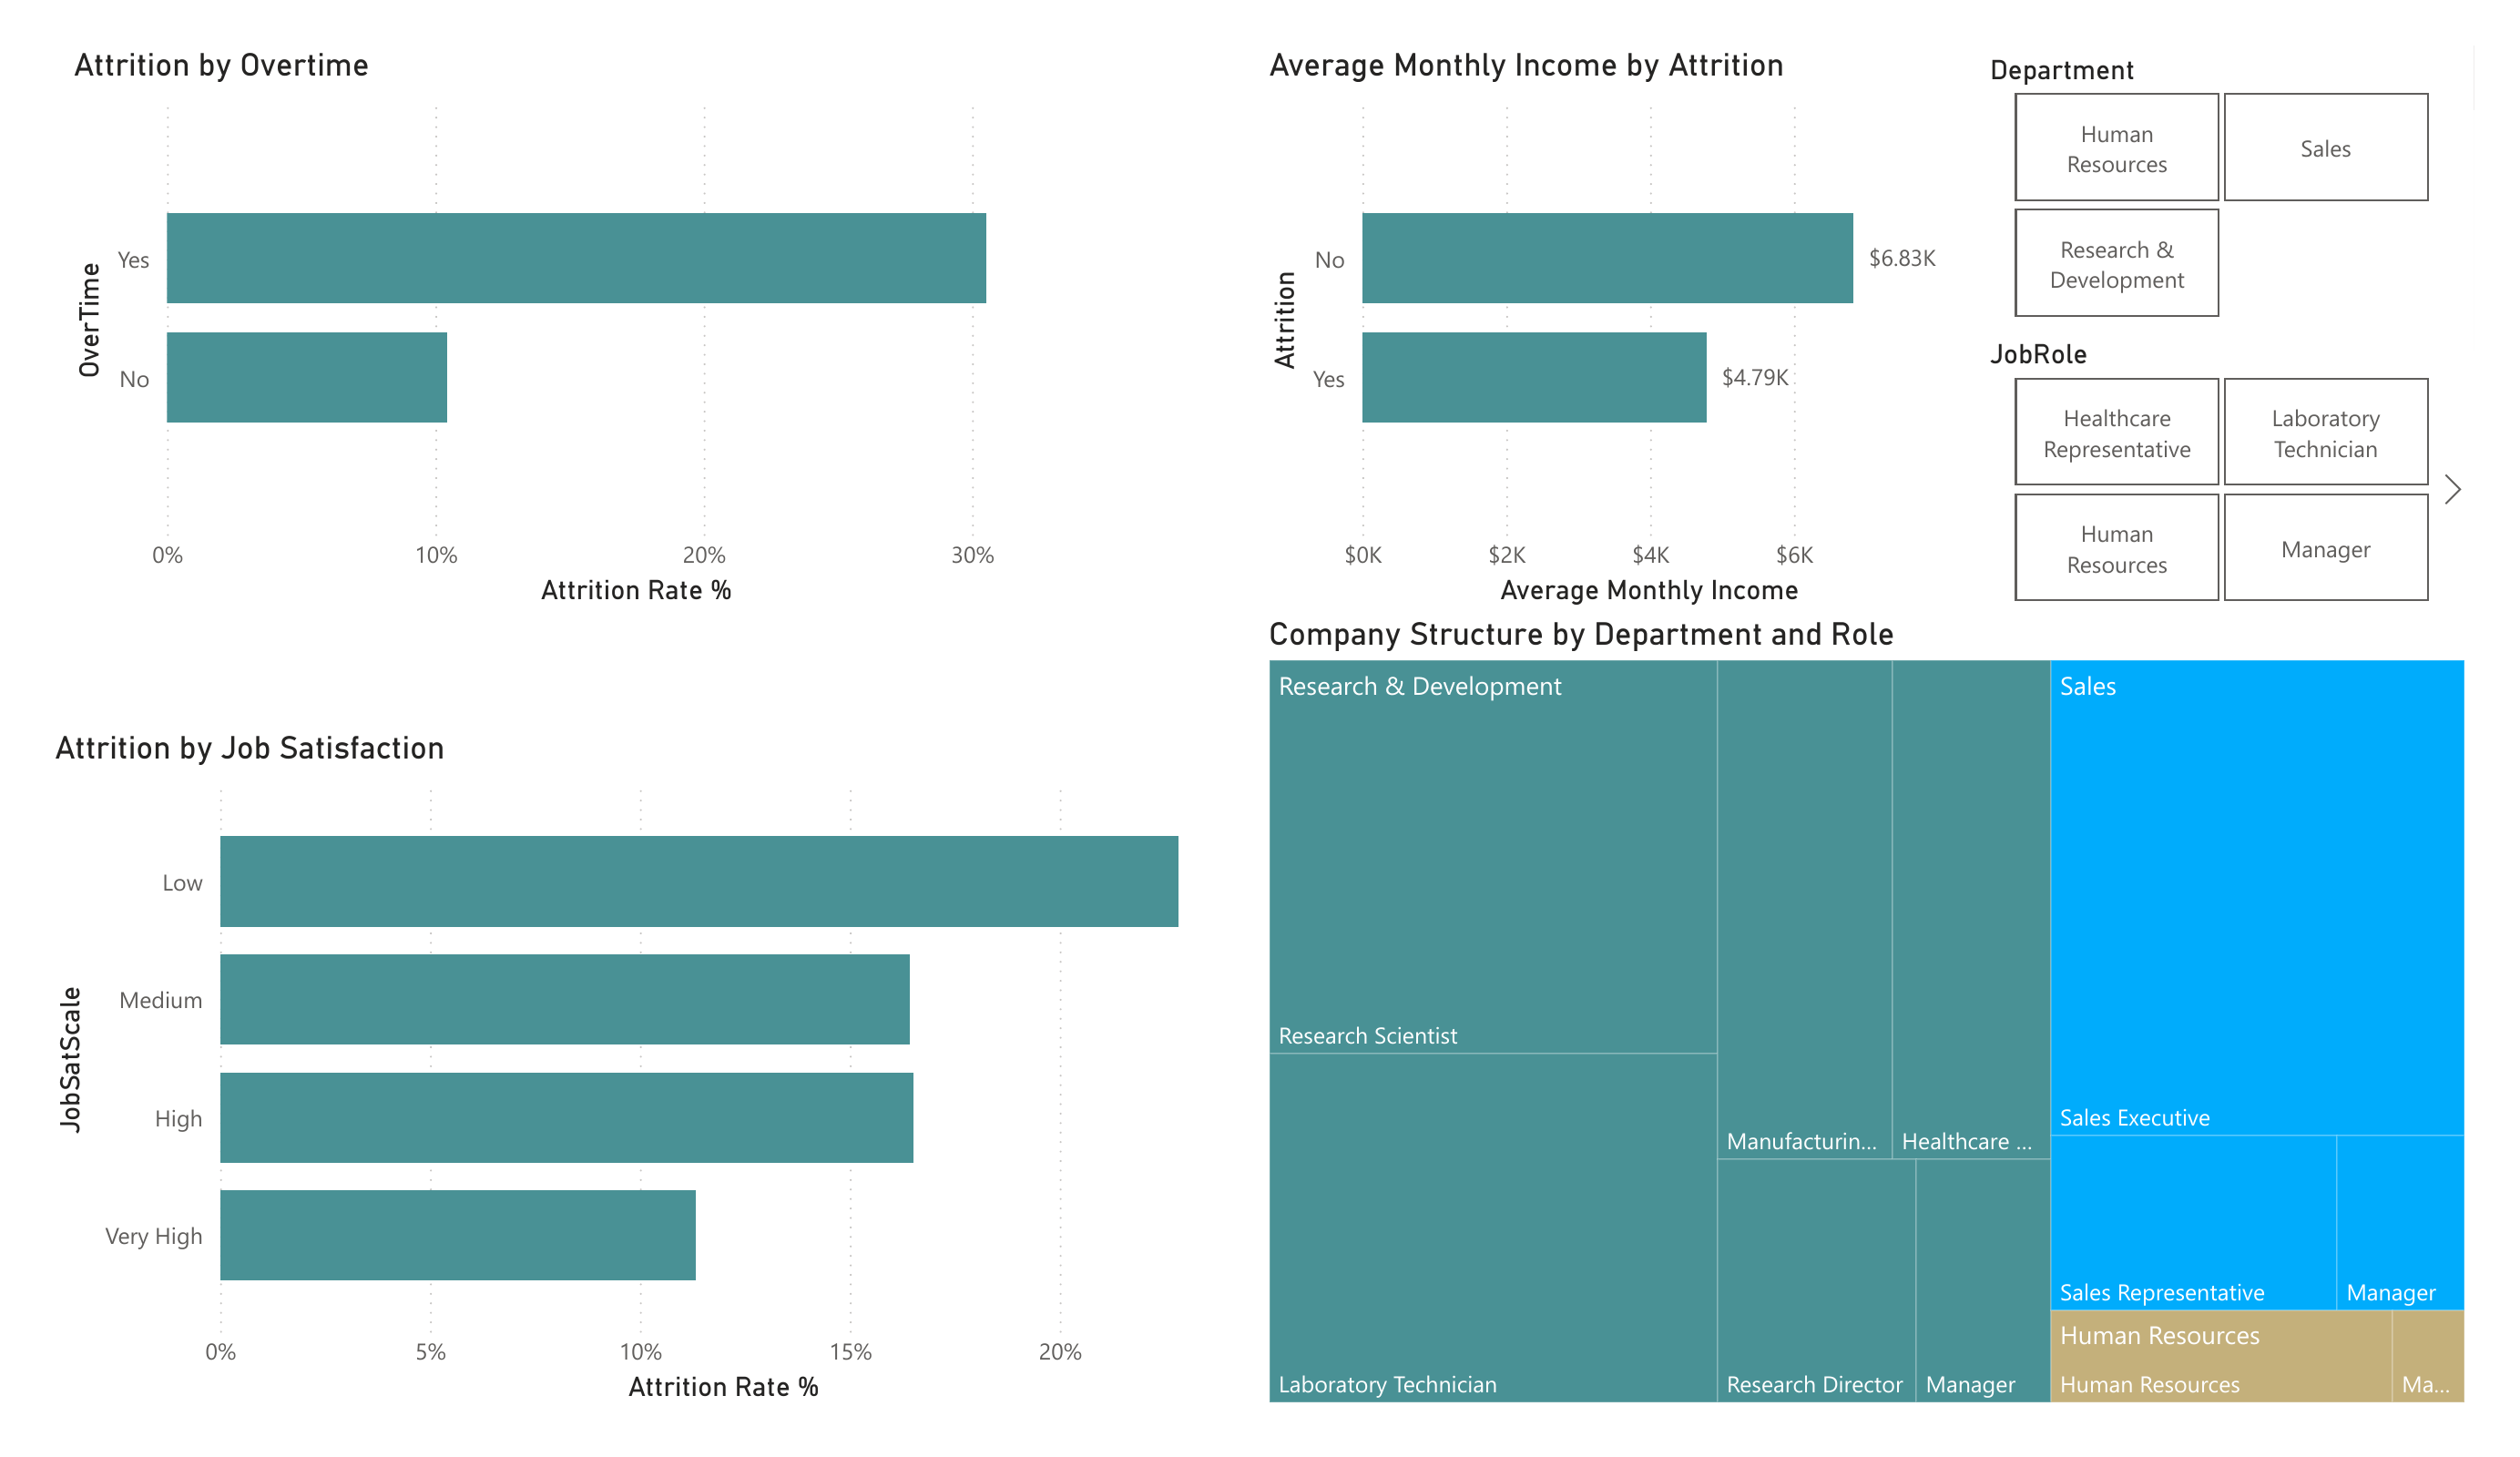

The page's visual inventory and layout, read from the dashboard file:
{"tool":"powerbi","page":{"name":"Deep Dive","canvas":[1280,720],"ordinal":1},"visuals":[{"type":"clusteredBarChart","title":"Attrition by Overtime","fields":{"Category":["Employees.OverTime"],"Y":["AllMeasures.Attrition Rate %"]},"box":[9.7,0,566.1,299.6],"z":0},{"type":"clusteredBarChart","title":"Attrition by Job Satisfaction","fields":{"Y":["AllMeasures.Attrition Rate %"],"Category":["Employees.JobSatScale"]},"box":[0,359.9,640,359.9],"z":1},{"type":"clusteredBarChart","fields":{"Category":["Employees.Attrition"],"Y":["AllMeasures.Average Monthly Income"]},"box":[640,0,371.6,299.6],"z":2},{"type":"treemap","title":"Company Structure by Department and Role","fields":{"Group":["Employees.Department"],"Values":["AllMeasures.Total Headcount"],"Details":["Employees.JobRole"]},"box":[640,299.6,640,420.2],"z":3},{"type":"slicer","fields":{"Values":["Employees.Department"]},"box":[1011.6,0,268.4,149.8],"z":4},{"type":"slicer","fields":{"Values":["Employees.JobRole"]},"box":[1011.6,149.8,268.4,149.8],"z":5}]}

Visuals, with their boxes on the page's 1280x720 design canvas (x1, y1, x2, y2). These are canvas units, not pixel positions in the 2520x1457 screenshot, which may show the page scaled, cropped or inside an application window:
"Attrition by Overtime" clusteredBarChart: select_region(10, 0, 576, 300)
"Attrition by Job Satisfaction" clusteredBarChart: select_region(0, 360, 640, 720)
clusteredBarChart - Employees.Attrition x AllMeasures.Average Monthly Income: select_region(640, 0, 1012, 300)
"Company Structure by Department and Role" treemap: select_region(640, 300, 1280, 720)
slicer - Employees.Department: select_region(1012, 0, 1280, 150)
slicer - Employees.JobRole: select_region(1012, 150, 1280, 300)
